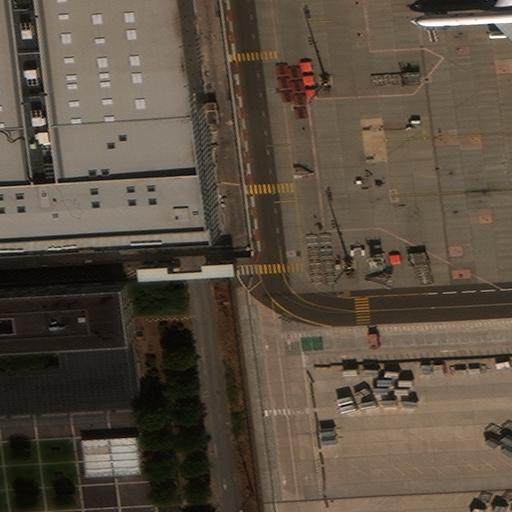Large Civil Transport: (410, 0, 512, 60)
